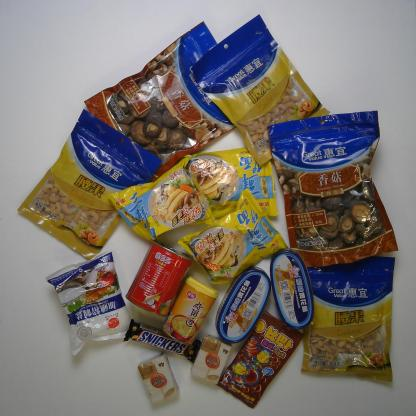Candy: (212, 309, 304, 410)
Canned Food: (124, 238, 193, 318), (214, 264, 272, 345), (160, 275, 219, 347), (269, 246, 315, 331)
Chocolate: (122, 317, 202, 364)
Dried Food: (82, 18, 238, 184), (265, 108, 399, 268)
Dried Fruit: (15, 107, 166, 263), (189, 12, 332, 170), (299, 251, 400, 386)
Instant Noodles: (178, 187, 292, 288), (107, 153, 215, 243), (182, 144, 281, 220)
Seasoner: (44, 246, 133, 360)
Tissue: (136, 351, 181, 407), (189, 331, 233, 387)
